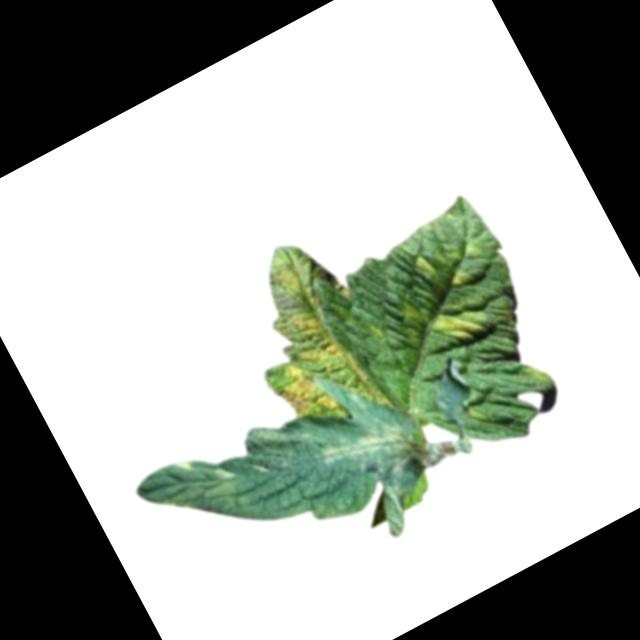Leaf_Mold: (319, 402, 437, 511), (258, 246, 350, 376), (269, 352, 343, 432), (425, 293, 489, 352), (447, 260, 477, 287)
